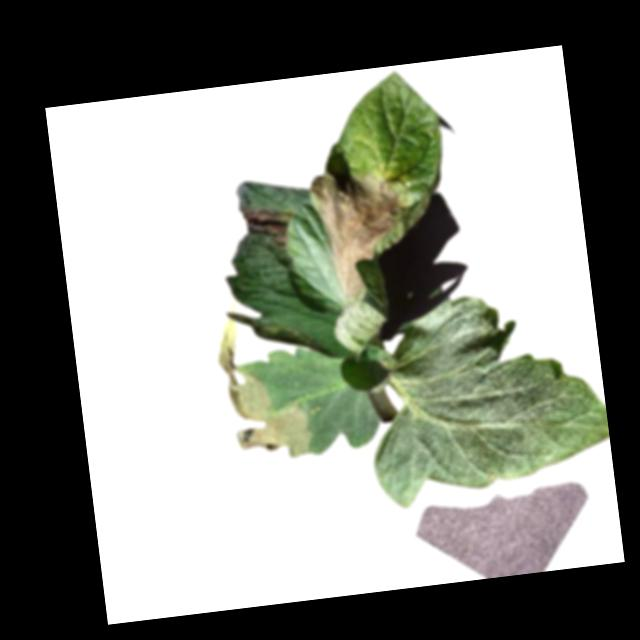Late_blight: (309, 164, 413, 301), (216, 333, 316, 465), (239, 200, 298, 251)
healthy: (354, 281, 614, 512)
